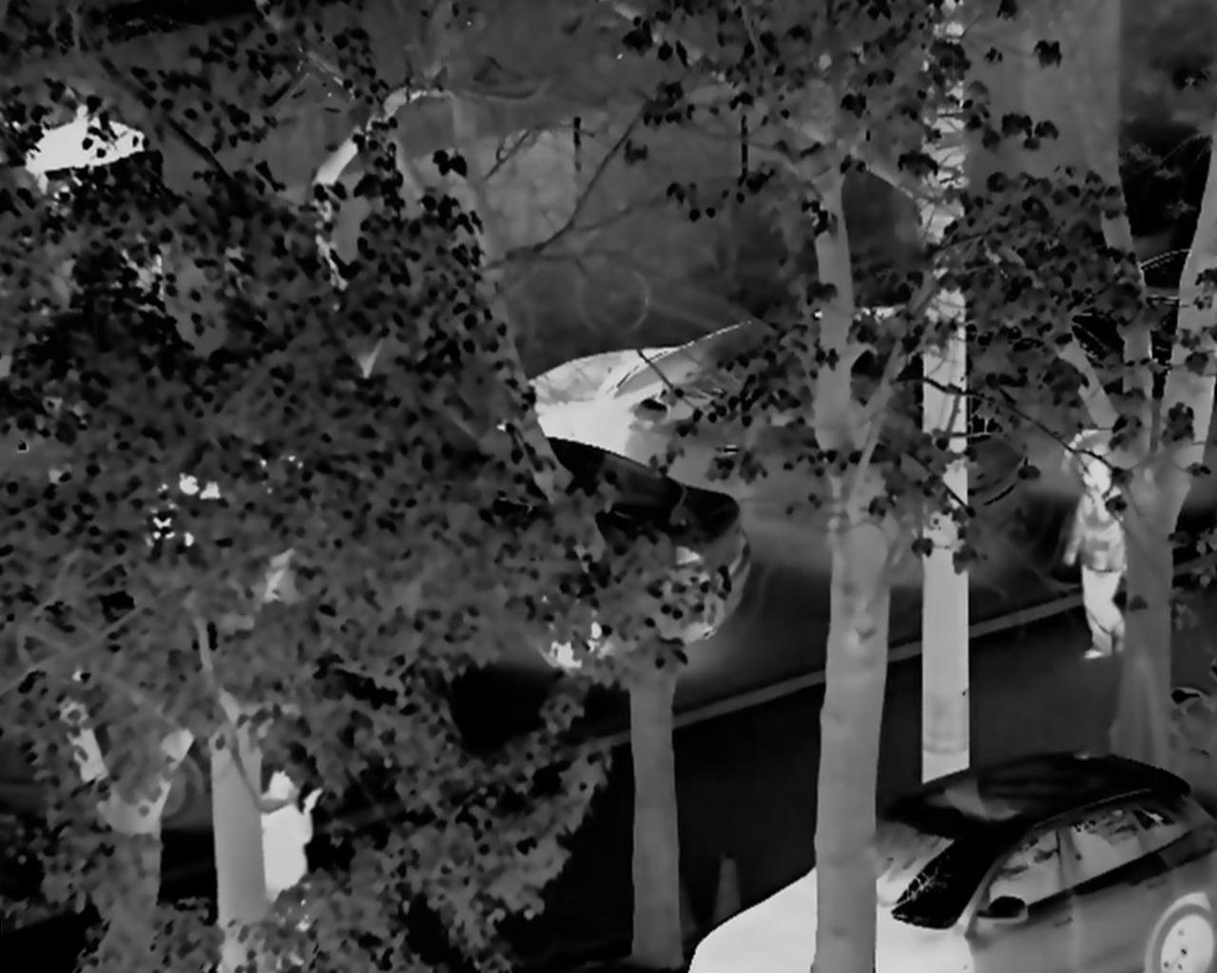person: (1052, 446, 1139, 658), (259, 768, 323, 957)
